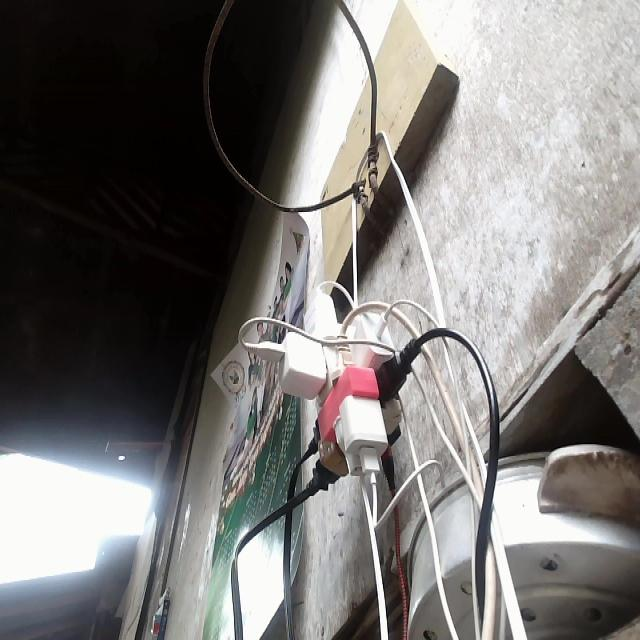-: (237, 280, 423, 495)
